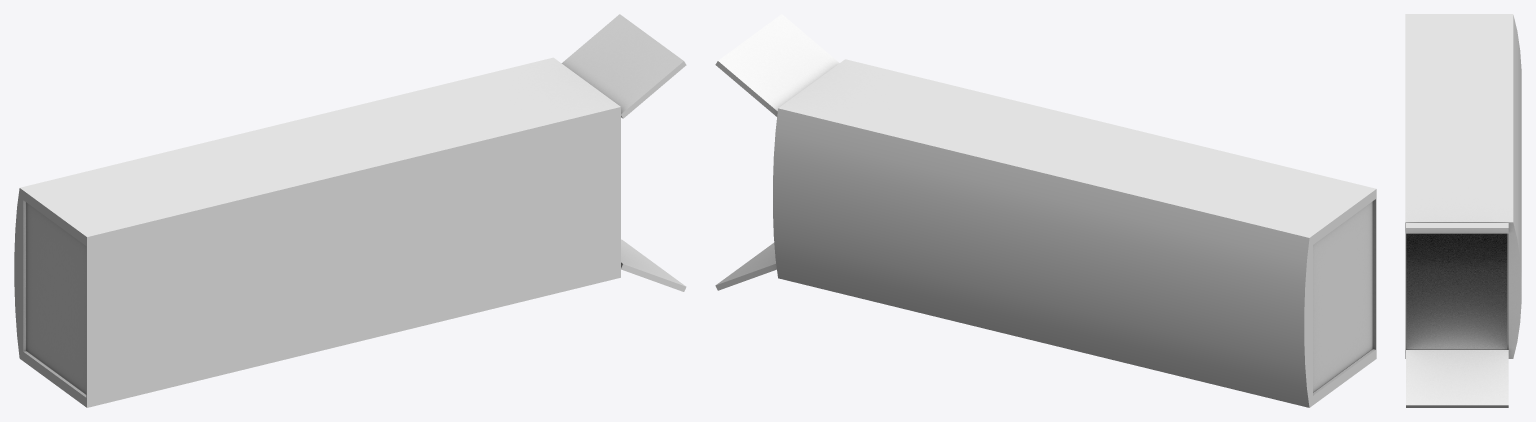
File: Angar.fbx
3 views of the same model, side by side, from view 1: azimuth 30°, elevation 25°; view 2: azimuth 150°, elevation 25°; view 3: azimuth 270°, elevation 25° (orthographic). The views are drawn at different scales.
Parts seen in each view (by area): view 1: Angar.001; view 2: Angar.001; view 3: Angar.001.
Boxes of the visible parts, x1,y1,x2,y2 form: Angar.001: (14, 14, 686, 407); Angar.001: (715, 14, 1376, 407); Angar.001: (1405, 14, 1521, 407).
Size of the model in its own units: 233 by 49.02 by 85.96.
